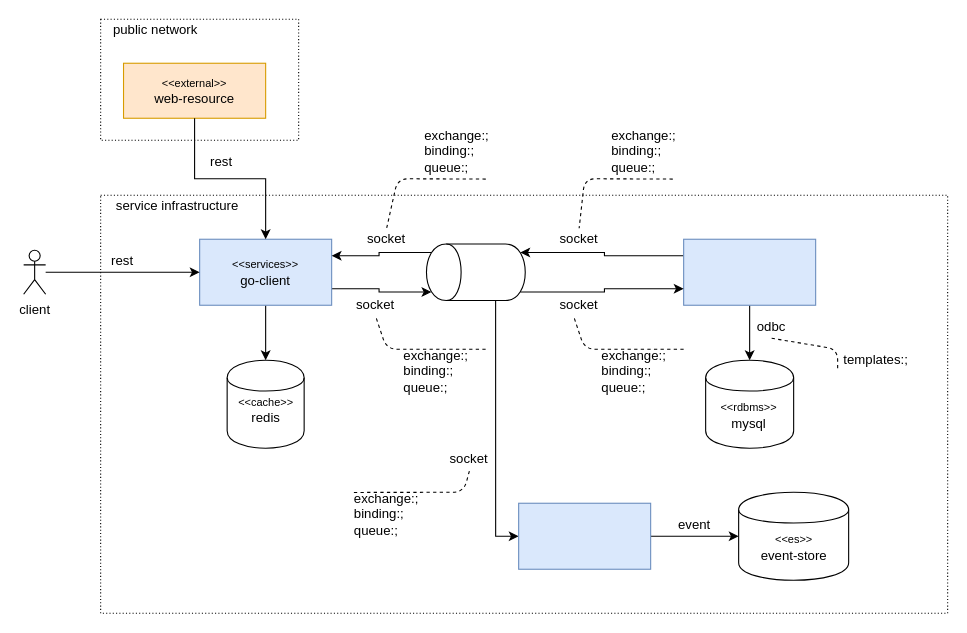
This 967x633 diagram has some shape labels left out. The shapes that lost their labels are listed below. From the top down, each one's centre as x and y in pixels, then its label:
At point (475, 272): "<<mb>> rmq".
At point (749, 271): "<<services>> go-parser".
At point (584, 535): "<<services>> go-es".
